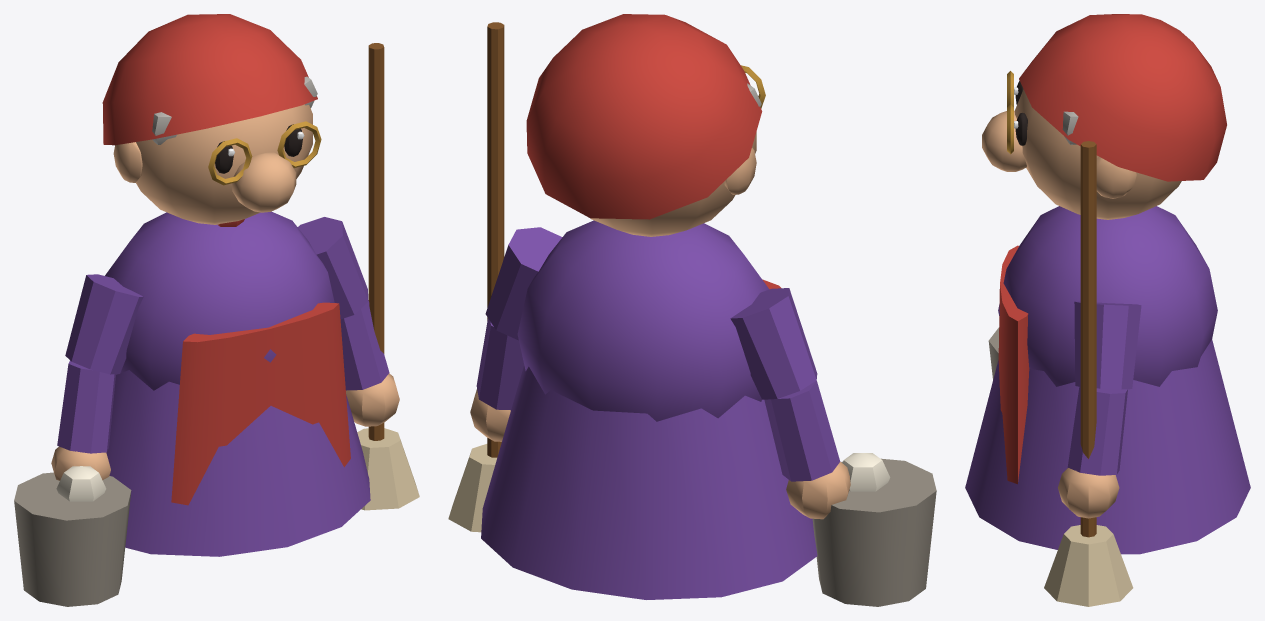
File: CH_Staff_04_Temizlikci.fbx
3 views of the same model, side by side, from view 1: azimuth 30°, elevation 25°; view 2: azimuth 150°, elevation 25°; view 3: azimuth 270°, elevation 25° (orthographic). The views are drawn at different scales.
Visible parts, largest first — view 1: CH_Staff_04_Temizlikci; view 2: CH_Staff_04_Temizlikci; view 3: CH_Staff_04_Temizlikci.
Part boxes in pixels (box(x1,y1,x2,y2)): CH_Staff_04_Temizlikci: box(14, 14, 419, 606); CH_Staff_04_Temizlikci: box(448, 14, 936, 606); CH_Staff_04_Temizlikci: box(965, 14, 1250, 606).
Size of the model in its own units: 0.9527 by 1.09 by 0.5746.
